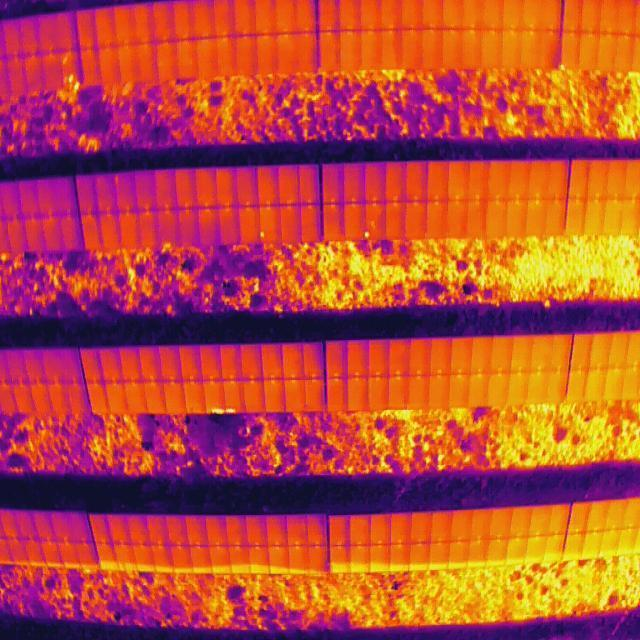panel: (233, 163, 260, 209), (255, 162, 282, 208), (487, 333, 516, 375), (52, 174, 80, 217), (58, 48, 84, 94), (341, 160, 367, 206), (323, 336, 350, 380), (95, 345, 126, 383), (92, 4, 118, 49), (111, 2, 137, 47), (130, 1, 156, 46), (363, 159, 389, 204), (383, 159, 409, 204), (403, 158, 429, 203), (425, 158, 451, 203), (446, 158, 472, 203), (585, 157, 611, 202), (407, 335, 434, 378), (153, 167, 178, 213), (486, 157, 511, 203), (507, 157, 532, 203), (316, 28, 342, 72), (338, 27, 364, 71), (359, 27, 385, 71), (379, 27, 405, 71), (526, 158, 552, 202), (544, 157, 570, 201), (96, 45, 123, 87), (468, 334, 495, 376), (508, 333, 535, 375), (275, 31, 300, 76), (294, 30, 319, 75), (400, 27, 425, 72), (421, 26, 446, 71), (440, 26, 465, 71), (459, 27, 484, 72), (480, 27, 505, 72), (213, 164, 238, 209), (276, 162, 301, 207), (297, 161, 322, 206), (319, 161, 344, 206), (467, 158, 492, 203), (58, 345, 86, 385), (117, 344, 145, 384), (137, 343, 165, 383), (17, 14, 43, 57), (151, 1, 177, 44), (92, 172, 118, 215), (345, 336, 371, 379), (366, 336, 392, 379), (428, 334, 454, 377), (448, 334, 474, 377), (157, 342, 184, 383), (279, 339, 306, 380), (547, 332, 574, 373), (155, 40, 180, 84), (175, 39, 200, 83), (194, 37, 219, 81), (215, 35, 240, 79), (233, 34, 258, 78), (254, 33, 279, 77), (112, 170, 137, 214), (133, 169, 158, 213), (173, 166, 198, 210), (194, 165, 219, 209), (604, 158, 629, 202), (188, 1, 216, 40), (482, 199, 508, 241), (178, 341, 204, 383), (198, 341, 224, 383), (218, 341, 244, 383), (238, 340, 264, 382), (387, 336, 413, 378), (586, 331, 614, 370), (35, 10, 59, 55), (566, 157, 590, 202), (581, 199, 608, 239), (114, 44, 140, 85), (134, 43, 160, 84), (463, 200, 489, 241), (39, 346, 67, 384), (78, 346, 106, 384), (74, 6, 98, 50), (17, 176, 41, 220), (3, 55, 28, 97), (518, 28, 543, 70), (538, 27, 563, 69), (301, 338, 326, 380), (529, 332, 554, 374), (64, 382, 94, 417), (583, 498, 613, 533), (66, 509, 95, 545), (259, 341, 285, 381), (210, 1, 238, 38), (499, 27, 523, 70), (74, 172, 98, 215), (2, 347, 29, 385), (21, 347, 48, 385), (78, 47, 103, 88), (444, 199, 469, 240), (320, 202, 345, 243), (606, 330, 631, 371), (8, 383, 39, 416), (48, 510, 78, 544), (104, 512, 133, 547), (136, 211, 162, 250), (97, 212, 123, 251), (79, 213, 105, 252), (1, 16, 25, 58), (54, 9, 78, 51), (504, 199, 528, 241), (299, 203, 323, 245), (278, 204, 302, 246), (581, 368, 609, 404), (487, 505, 515, 541), (507, 504, 535, 540), (563, 198, 588, 238), (424, 200, 449, 240), (403, 201, 428, 241), (236, 205, 261, 245), (216, 206, 241, 246), (196, 207, 221, 247), (176, 208, 201, 248), (154, 209, 179, 249), (59, 214, 84, 254), (569, 332, 594, 372), (181, 379, 208, 416), (161, 380, 188, 417), (46, 382, 73, 419), (22, 53, 45, 96), (35, 175, 58, 218), (30, 509, 59, 543), (258, 205, 282, 246), (103, 381, 131, 416), (85, 382, 113, 417), (87, 511, 115, 546), (526, 503, 554, 538), (117, 211, 142, 250), (125, 513, 152, 549), (263, 513, 290, 549), (429, 509, 456, 545), (171, 1, 194, 43), (41, 51, 64, 93), (40, 216, 66, 253), (405, 375, 431, 412), (468, 506, 494, 543), (543, 198, 567, 238), (525, 199, 549, 239), (600, 199, 625, 237), (144, 512, 171, 547), (448, 508, 475, 543), (547, 502, 574, 537), (566, 501, 593, 536), (384, 201, 407, 242), (363, 201, 386, 242), (342, 202, 365, 243), (601, 367, 627, 403), (143, 380, 169, 416), (123, 381, 149, 417), (327, 512, 353, 548), (388, 510, 414, 546), (55, 541, 84, 573), (37, 539, 66, 571), (485, 372, 510, 409), (465, 372, 490, 409), (446, 373, 471, 410), (426, 374, 451, 411), (345, 376, 370, 413), (1, 178, 23, 220), (28, 382, 56, 415), (13, 508, 41, 541), (560, 28, 583, 68), (578, 30, 601, 70), (596, 30, 619, 70), (614, 31, 637, 71), (184, 513, 210, 548), (204, 513, 230, 548), (224, 513, 250, 548), (347, 513, 373, 548), (603, 497, 629, 532), (244, 513, 269, 549), (409, 509, 434, 545), (3, 537, 31, 569), (325, 377, 349, 414), (304, 377, 328, 414), (282, 377, 306, 414), (263, 378, 287, 415), (242, 378, 266, 415), (221, 379, 245, 416), (202, 379, 226, 416), (5, 218, 30, 253), (564, 370, 589, 405), (545, 370, 570, 405), (526, 371, 551, 406), (505, 372, 530, 407), (165, 513, 190, 548), (285, 513, 310, 548), (305, 512, 330, 547), (111, 544, 140, 574), (231, 1, 255, 37), (386, 376, 410, 412), (366, 376, 390, 412), (208, 544, 234, 577), (188, 544, 214, 577), (169, 543, 195, 576), (149, 543, 175, 576), (95, 542, 122, 573), (74, 541, 101, 572), (542, 533, 568, 565), (523, 535, 549, 567), (503, 535, 529, 567), (484, 537, 510, 569), (23, 217, 46, 253), (464, 539, 489, 572), (369, 512, 393, 546), (560, 532, 586, 563), (614, 526, 639, 558), (597, 528, 622, 560), (580, 530, 605, 562), (387, 543, 412, 575), (227, 544, 252, 576), (619, 199, 640, 237), (446, 540, 470, 573), (427, 540, 451, 573), (407, 541, 431, 574), (22, 539, 49, 568), (132, 544, 157, 575), (287, 544, 311, 576), (267, 544, 291, 576), (247, 544, 271, 576), (367, 543, 391, 574), (347, 543, 371, 574), (328, 544, 352, 575), (308, 544, 332, 575), (1, 507, 23, 540)
